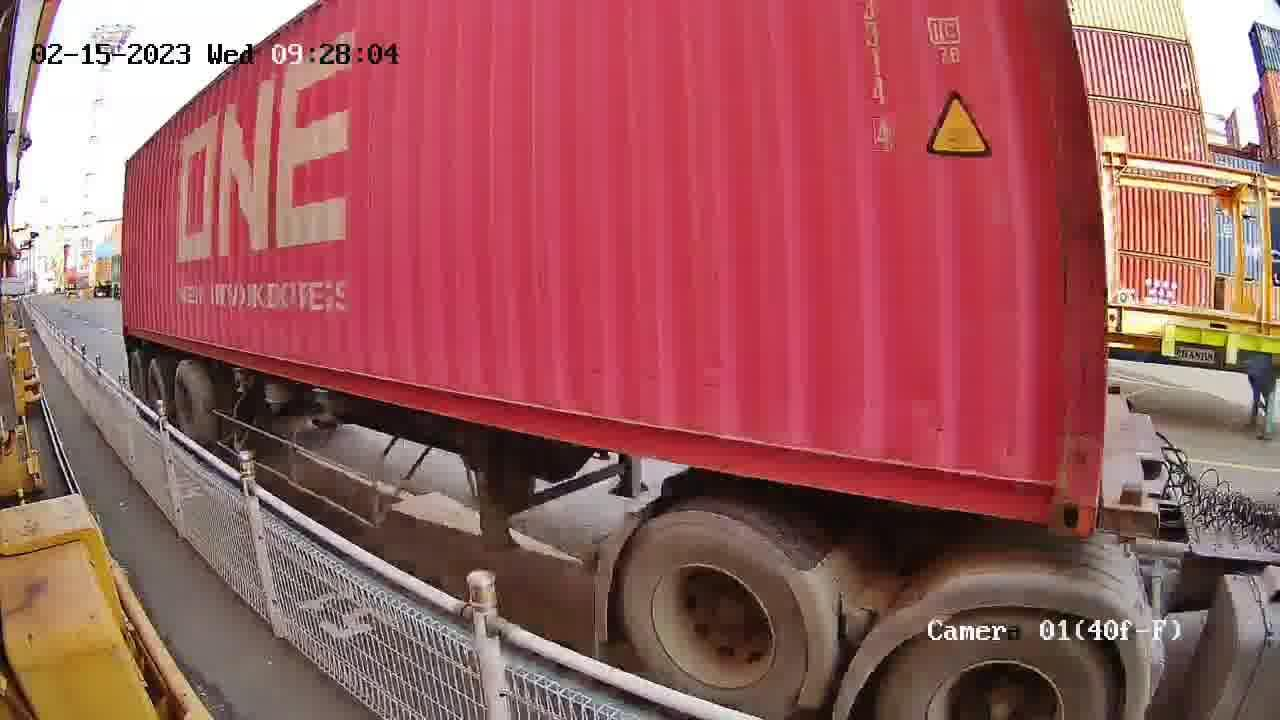Chassis: (1103, 391, 1159, 538)
Cone: (1112, 482, 1154, 545)
Hole_R: (1002, 441, 1105, 538)
Tire: (614, 516, 813, 715), (879, 614, 1112, 716)
